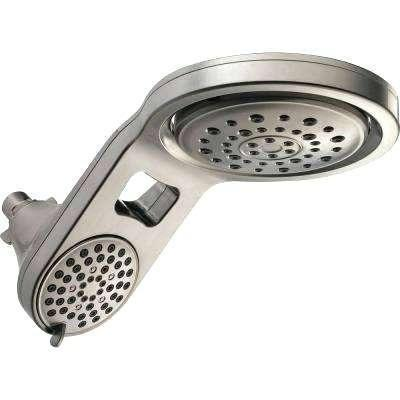Ducha: (0, 53, 399, 361)
